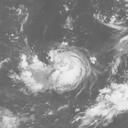cyclone: (50, 46, 90, 92)
